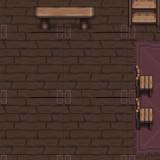Obstacle: (28, 0, 100, 32), (128, 64, 160, 98), (128, 97, 160, 130), (128, 0, 160, 32)
